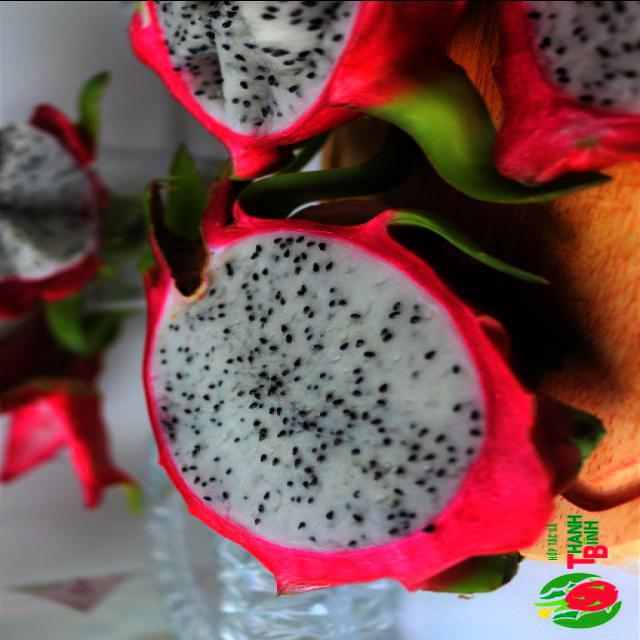trang: (137, 163, 599, 597), (130, 1, 488, 163), (488, 1, 638, 209)
